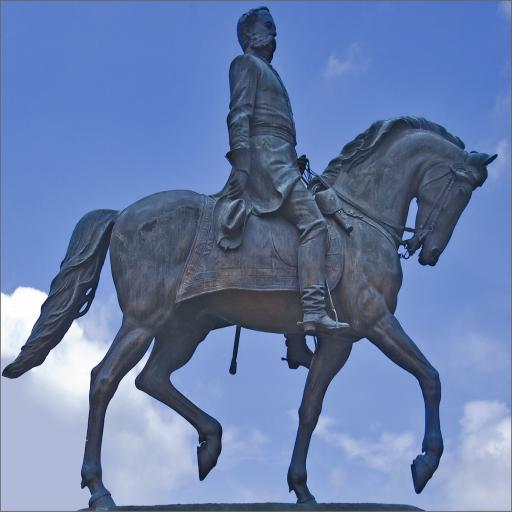Horse: (0, 114, 500, 512)
